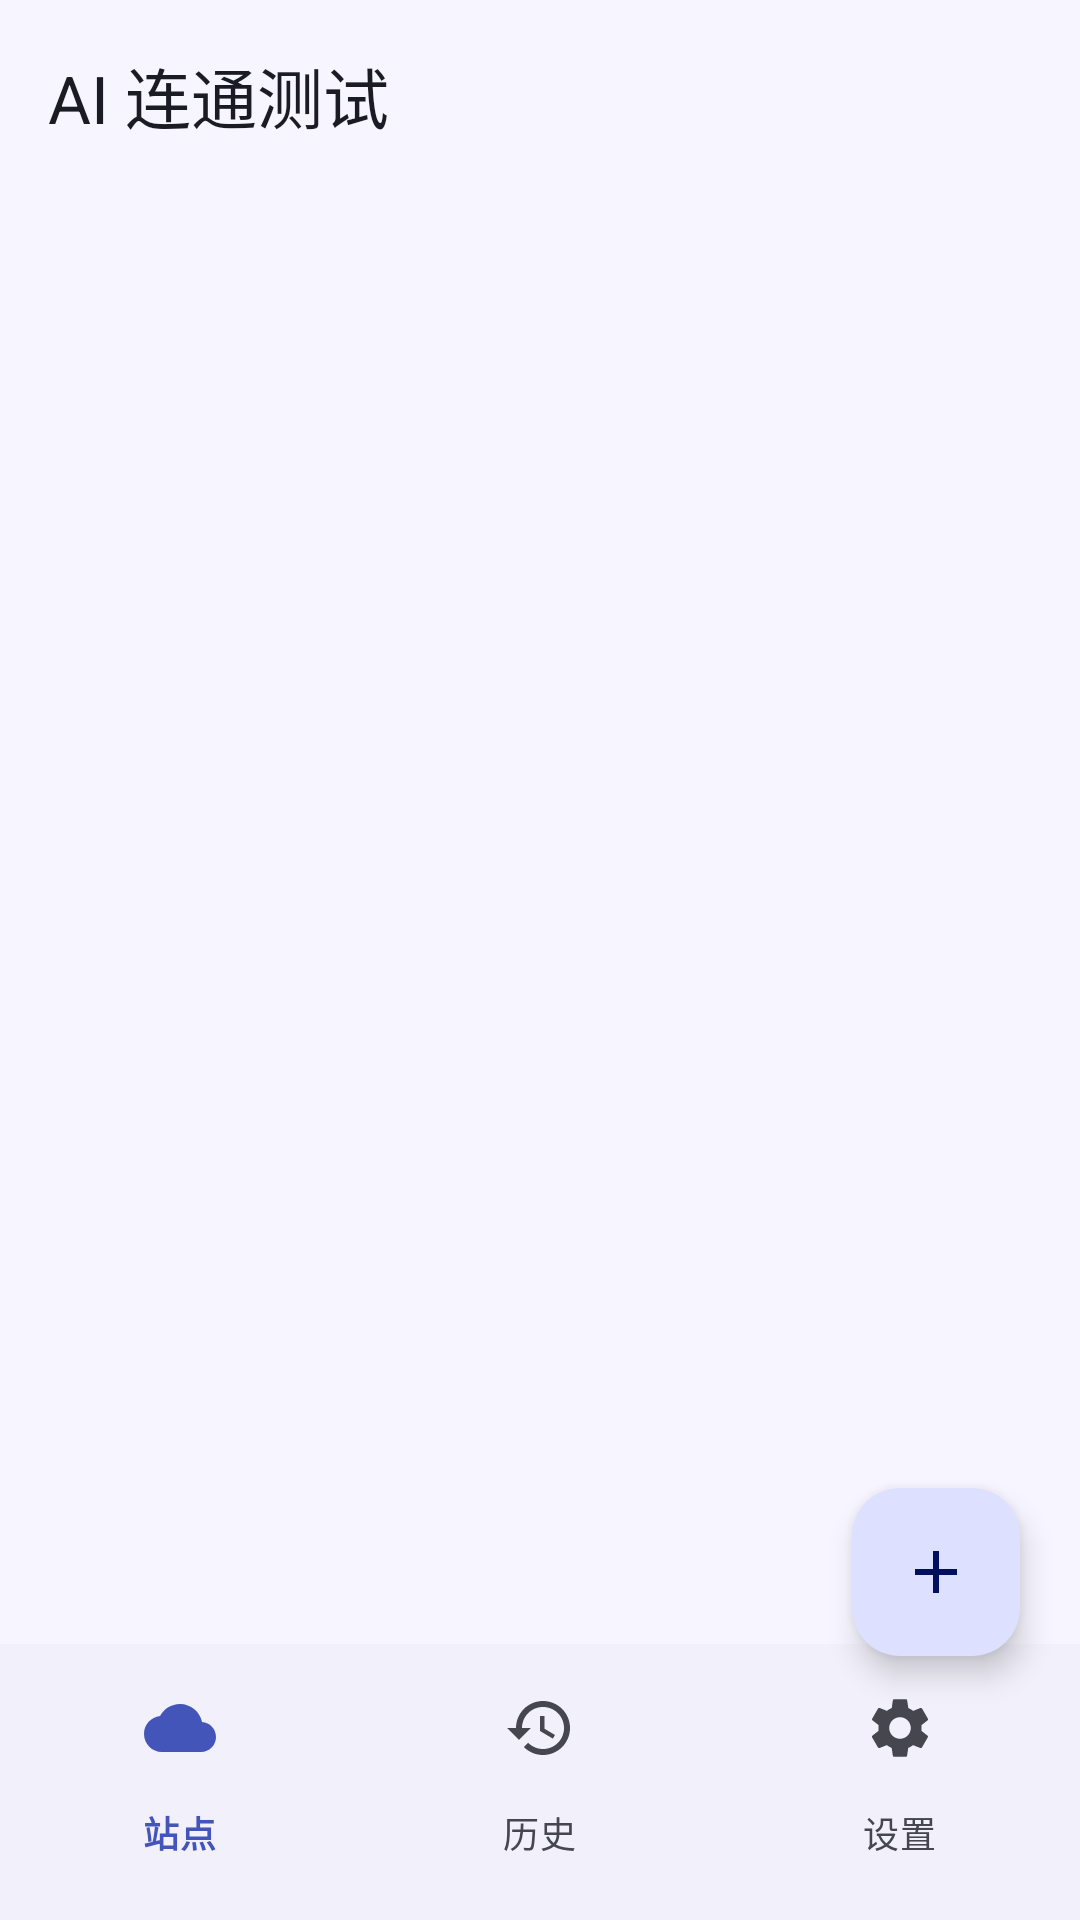

Icons on this 1080*1920 Android screen, each with its box as bbox=[x1, y1, x2, y2]:
添加站点: bbox=[852, 1488, 1020, 1656]
